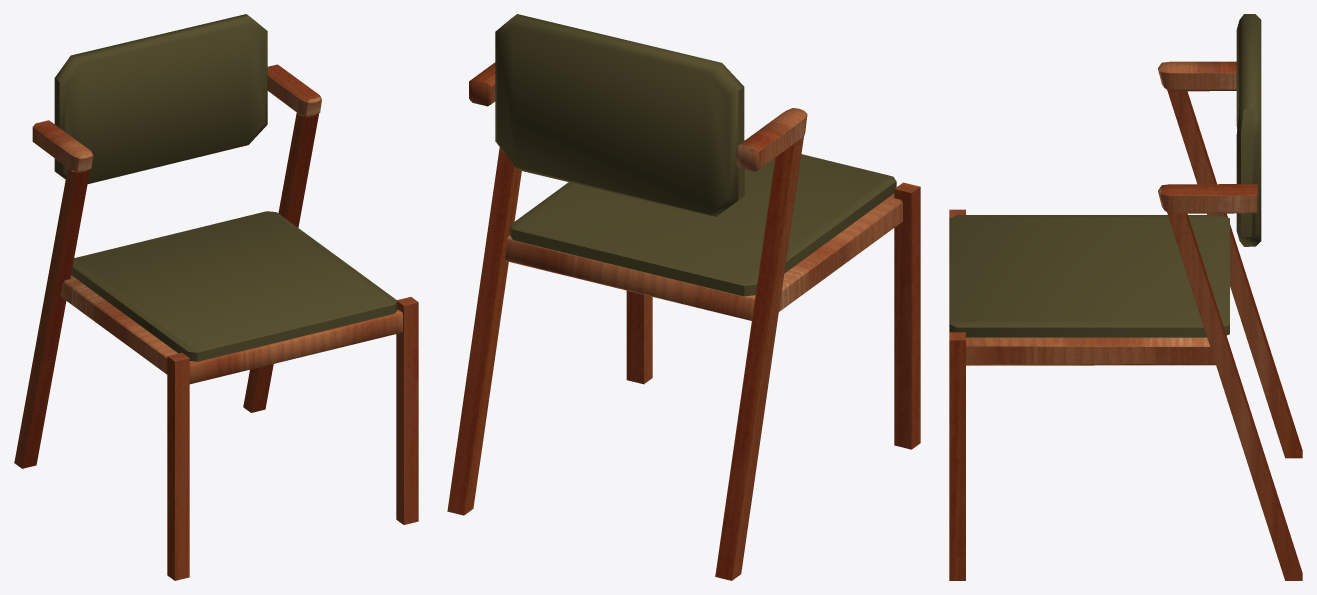
Rendered from LC_3056_chair_I_LOD1.FBX.
3 views of the same model, side by side, from view 1: azimuth 30°, elevation 25°; view 2: azimuth 150°, elevation 25°; view 3: azimuth 270°, elevation 25° (orthographic). The views are drawn at different scales.
Parts seen in each view (by area): view 1: LC_3056_chair_I_LOD1; view 2: LC_3056_chair_I_LOD1; view 3: LC_3056_chair_I_LOD1.
Part boxes in pixels (bbox=[...]): LC_3056_chair_I_LOD1: bbox=[14, 14, 418, 580]; LC_3056_chair_I_LOD1: bbox=[447, 14, 920, 580]; LC_3056_chair_I_LOD1: bbox=[949, 14, 1302, 580].
Size of the model in its own units: 62.56 by 99.89 by 70.27.
Materials: 1 (1 with a texture image).
